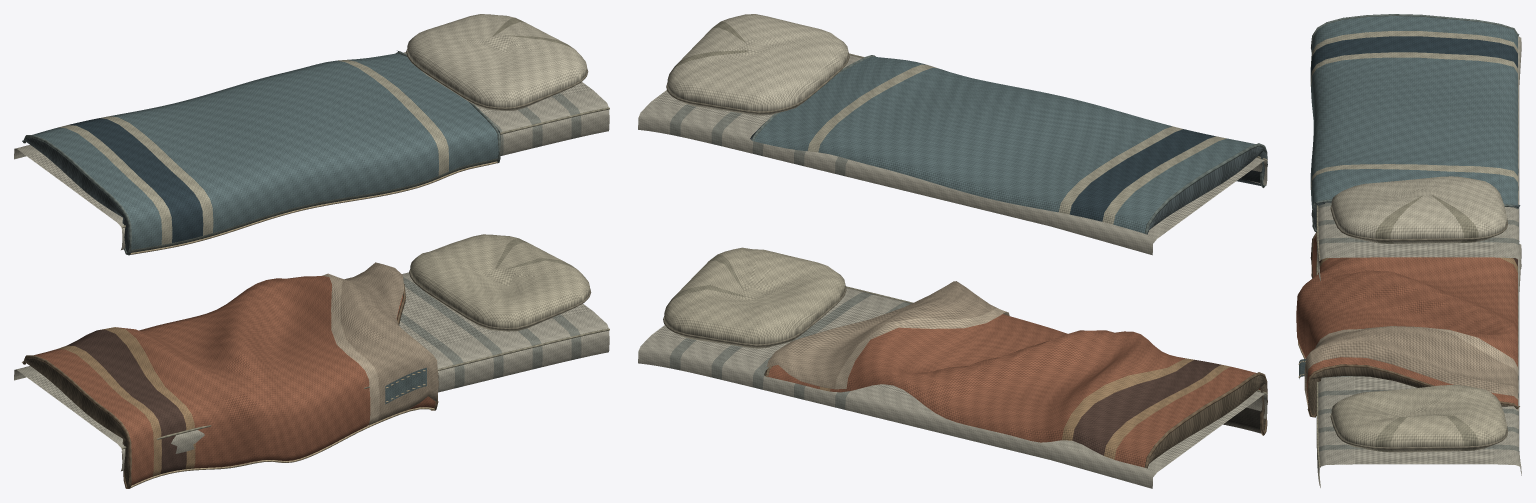
File: watch-blanket.glb
The picture shows the model from 3 angles, left to right: view 1: azimuth 30°, elevation 25°; view 2: azimuth 150°, elevation 25°; view 3: azimuth 270°, elevation 25°; orthographic projection. The views are drawn at different scales.
Visible parts, largest first — view 1: Opposite watch bedding; view 2: Opposite watch bedding; view 3: Opposite watch bedding.
Boxes of the visible parts, <box> form: Opposite watch bedding: <box>14,14,609,488</box>; Opposite watch bedding: <box>638,14,1267,488</box>; Opposite watch bedding: <box>1296,14,1521,487</box>.
Bounding box in the file's own units: 1.69 × 1.03 × 0.711.
Materials: 1 (1 with a texture image).
